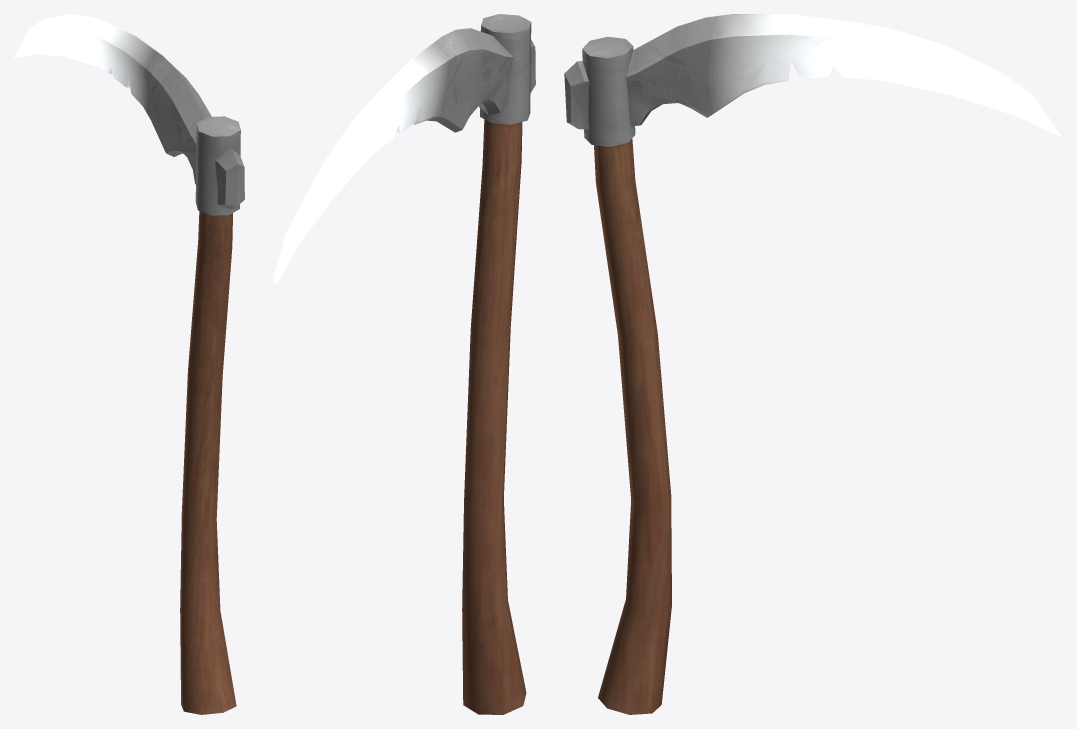
File: MeleeWeaponAgent_GhostBat.fbx
The picture shows the model from 3 angles, left to right: view 1: azimuth 30°, elevation 25°; view 2: azimuth 150°, elevation 25°; view 3: azimuth 270°, elevation 25°; orthographic projection. The views are drawn at different scales.
Parts seen in each view (by area): view 1: Pfb_Sickle; view 2: Pfb_Sickle; view 3: Pfb_Sickle.
Boxes of the visible parts, bbox=[...] form: Pfb_Sickle: bbox=[14, 14, 244, 714]; Pfb_Sickle: bbox=[273, 14, 535, 714]; Pfb_Sickle: bbox=[564, 14, 1062, 714].
Bounding box in the file's own units: 0.1238 × 1.47 × 0.9583.
